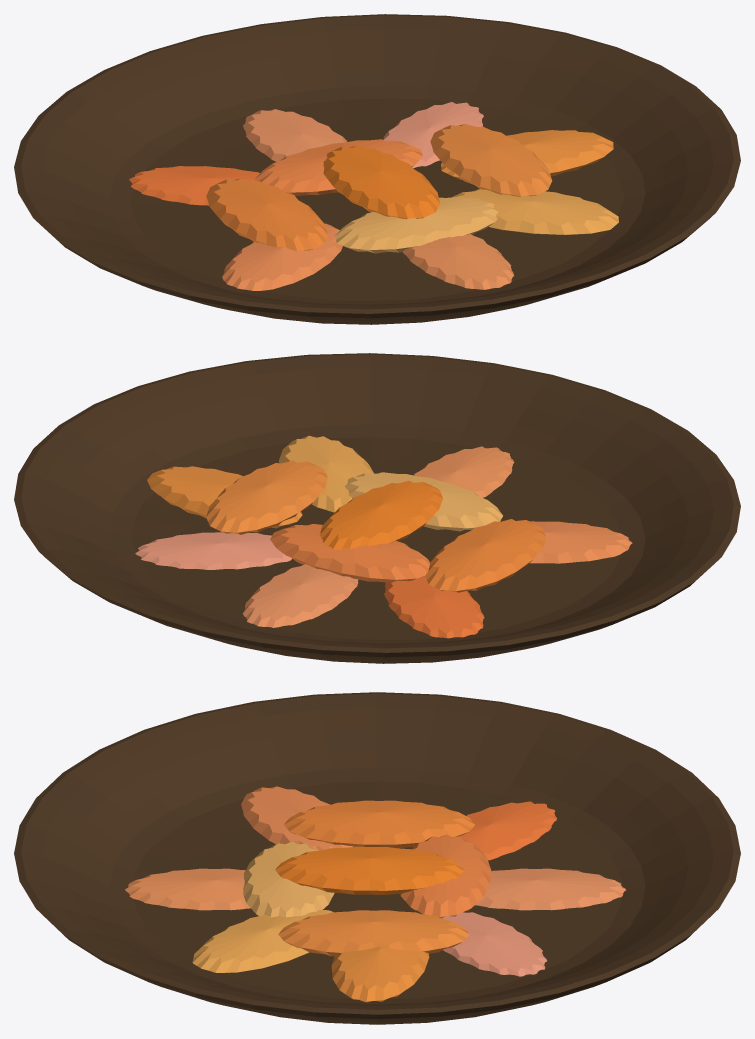
File: biji ketapang.fbx
3 views of the same model, one above another, from view 1: azimuth 30°, elevation 25°; view 2: azimuth 150°, elevation 25°; view 3: azimuth 270°, elevation 25° (orthographic). The views are drawn at different scales.
Parts seen in each view (by area): view 1: Cylinder, Cylinder.009, Cylinder.008, Cylinder.012, Cylinder.011, Cylinder.004, Cylinder.006, Cylinder.001, Cylinder.010, Cylinder.002, Cylinder.003, Cylinder.007 (+1 smaller); view 2: Cylinder, Cylinder.009, Cylinder.008, Cylinder.012, Cylinder.010, Cylinder.002, Cylinder.005, Cylinder.003, Cylinder.011, Cylinder.004, Cylinder.006, Cylinder.007 (+1 smaller); view 3: Cylinder, Cylinder.012, Cylinder.008, Cylinder.009, Cylinder.002, Cylinder.004, Cylinder.001, Cylinder.010, Cylinder.007, Cylinder.005, Cylinder.011, Cylinder.003 (+1 smaller).
Part boxes in pixels (box(x1,y1,x2,y2)): Cylinder: box(14, 14, 740, 324); Cylinder.009: box(430, 124, 552, 196); Cylinder.008: box(206, 178, 327, 250); Cylinder.012: box(323, 145, 439, 219); Cylinder.011: box(334, 196, 498, 253); Cylinder.004: box(451, 189, 618, 234); Cylinder.006: box(222, 223, 342, 290); Cylinder.001: box(403, 234, 514, 289); Cylinder.010: box(255, 139, 422, 195); Cylinder.002: box(243, 109, 347, 161); Cylinder.003: box(129, 166, 259, 205); Cylinder.007: box(441, 130, 613, 179); Cylinder: box(14, 353, 740, 663); Cylinder.009: box(206, 460, 327, 534); Cylinder.008: box(425, 519, 546, 592); Cylinder.012: box(319, 481, 442, 549); Cylinder.010: box(270, 524, 429, 582); Cylinder.002: box(243, 564, 358, 627); Cylinder.005: box(135, 532, 291, 569); Cylinder.003: box(384, 576, 484, 638); Cylinder.011: box(345, 472, 502, 531); Cylinder.004: box(279, 435, 373, 512); Cylinder.006: box(465, 521, 632, 563); Cylinder.007: box(147, 466, 302, 528); Cylinder: box(14, 692, 740, 1024); Cylinder.012: box(275, 846, 465, 894); Cylinder.008: box(284, 800, 475, 848); Cylinder.009: box(278, 910, 469, 956); Cylinder.002: box(475, 868, 625, 910); Cylinder.004: box(192, 910, 333, 972); Cylinder.001: box(125, 868, 250, 910); Cylinder.010: box(400, 834, 491, 917); Cylinder.007: box(331, 947, 429, 1002); Cylinder.005: box(442, 912, 547, 976); Cylinder.011: box(243, 841, 334, 917); Cylinder.003: box(455, 801, 556, 860).
Bounding box in the file's own units: 231 × 19.71 × 220.
